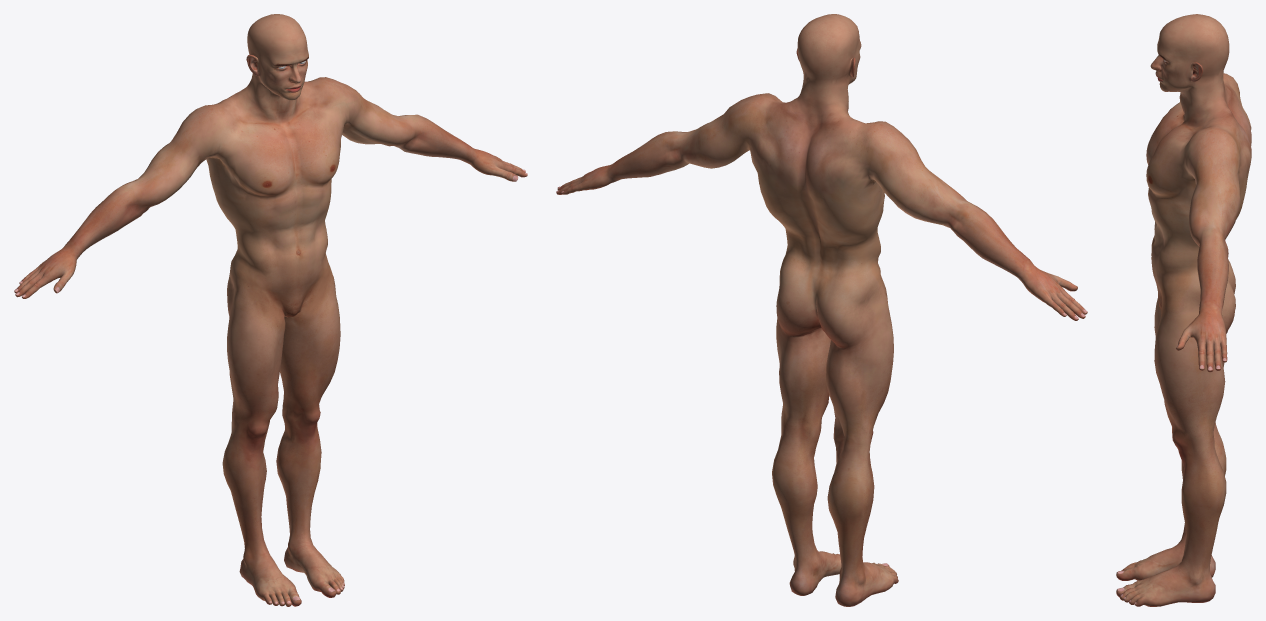
Rendered from custom_human.glb.
3 renders of one model, left to right at view 1: azimuth 30°, elevation 25°; view 2: azimuth 150°, elevation 25°; view 3: azimuth 270°, elevation 25°, orthographic. The views are drawn at different scales.
Parts seen in each view (by area): view 1: CC_Base_Body; view 2: CC_Base_Body; view 3: CC_Base_Body.
Part boxes in pixels (left/top/right/bottom): CC_Base_Body: left=14, top=14, right=527, bottom=606; CC_Base_Body: left=556, top=14, right=1087, bottom=606; CC_Base_Body: left=1116, top=14, right=1251, bottom=606.
Bounding box in the file's own units: 176 × 184 × 39.51.
Materials: 13 (11 with a texture image).
